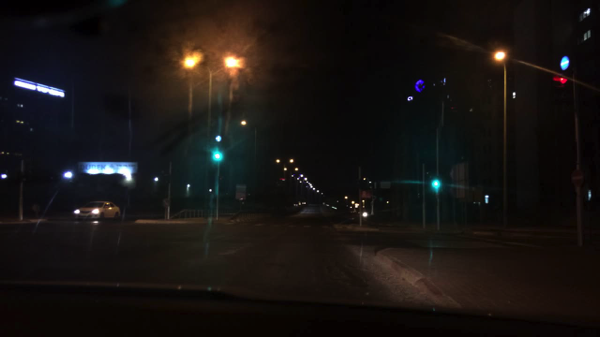car: (72, 200, 121, 222), (284, 202, 300, 213), (356, 211, 372, 220), (296, 200, 303, 209), (301, 199, 307, 206)
traffic light: (585, 189, 592, 200), (432, 179, 440, 188), (213, 152, 221, 160), (558, 77, 566, 84)
traffic sign: (450, 161, 466, 198), (570, 170, 583, 187), (235, 184, 246, 200), (558, 57, 569, 70), (33, 204, 42, 213), (361, 190, 371, 198), (162, 198, 170, 207), (380, 182, 391, 188), (215, 136, 221, 142)
